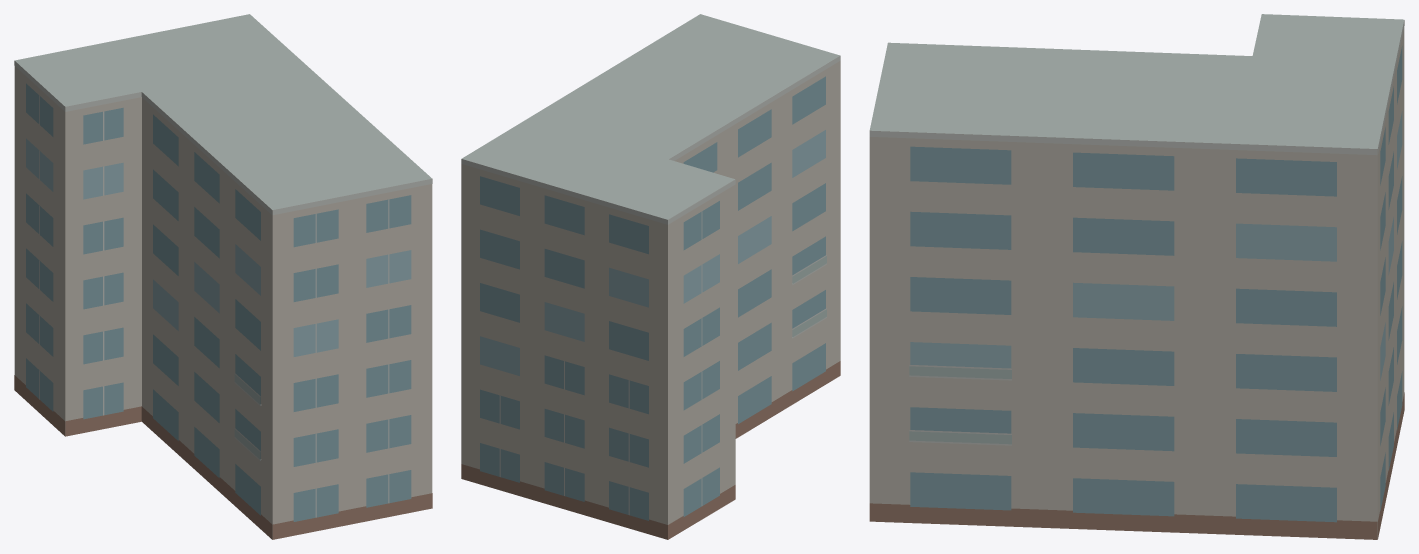
The model's file is survey-upis-32659271.glb.
The picture shows the model from 3 angles, left to right: view 1: azimuth 30°, elevation 25°; view 2: azimuth 150°, elevation 25°; view 3: azimuth 270°, elevation 25°; orthographic projection. The views are drawn at different scales.
Visible parts, largest first — view 1: survey-upis-32659271.tmp; view 2: survey-upis-32659271.tmp; view 3: survey-upis-32659271.tmp.
Boxes of the visible parts, x1,y1,x2,y2 form: survey-upis-32659271.tmp: [14, 14, 432, 539]; survey-upis-32659271.tmp: [461, 14, 840, 539]; survey-upis-32659271.tmp: [869, 14, 1404, 539].
Size of the model in its own units: 11.57 by 15.6 by 19.36.
